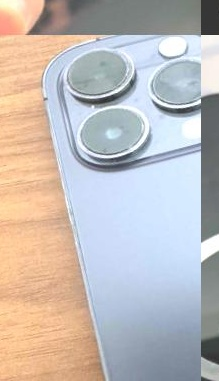scratch: (66, 88, 152, 171), (48, 38, 145, 108), (139, 47, 201, 123)
